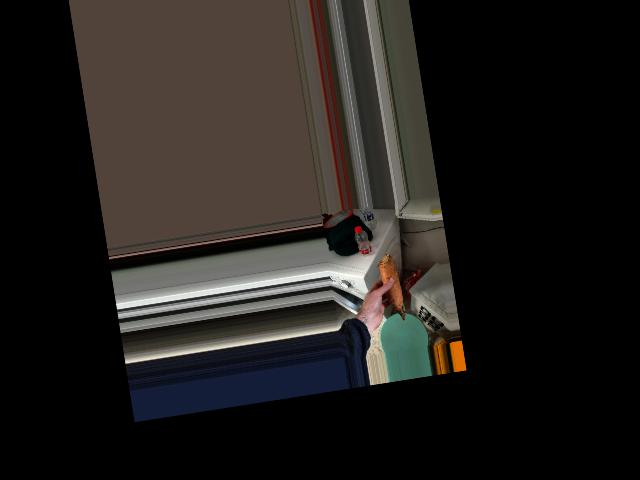sweet_potato: (374, 250, 403, 319)
